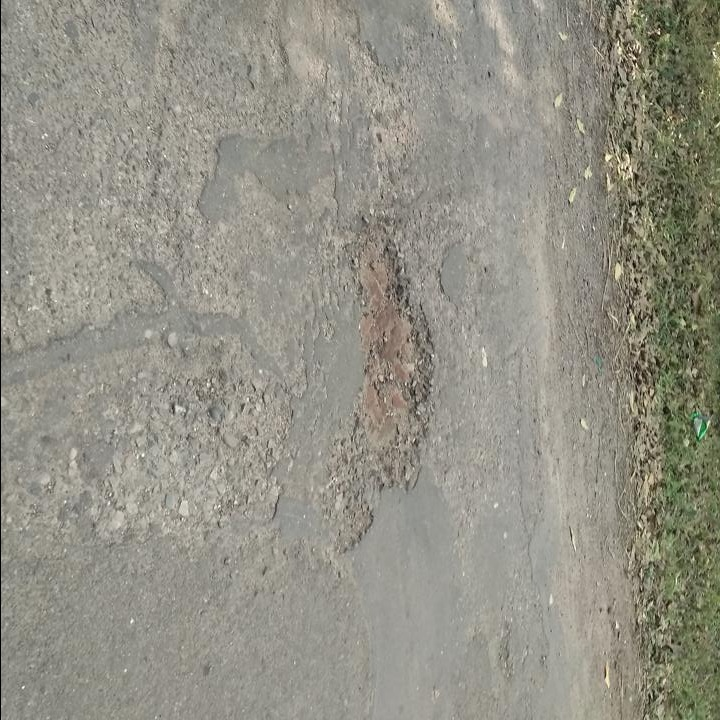pothole: (321, 215, 443, 559)
